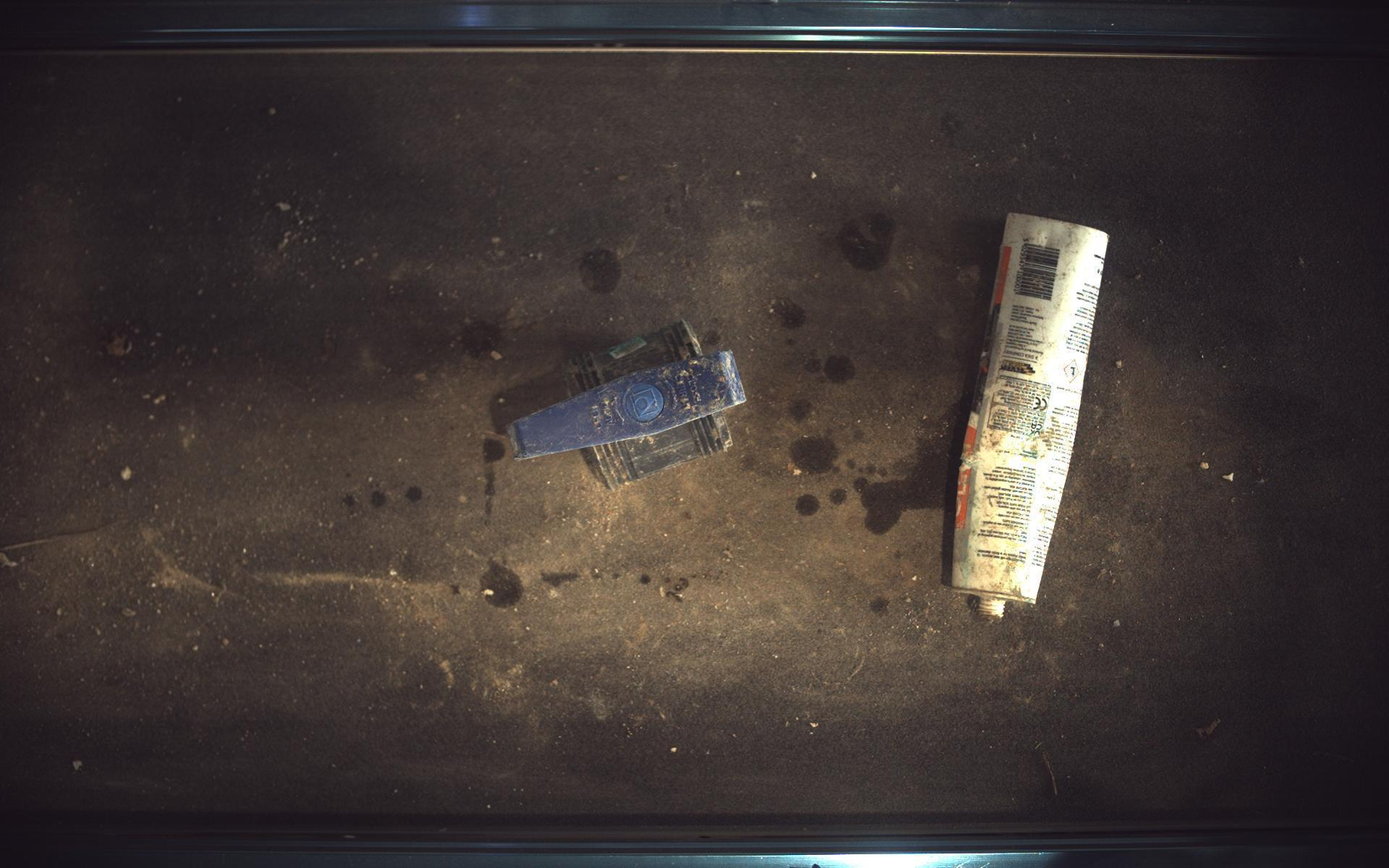plastic: (953, 213, 1111, 618), (508, 320, 747, 489)
